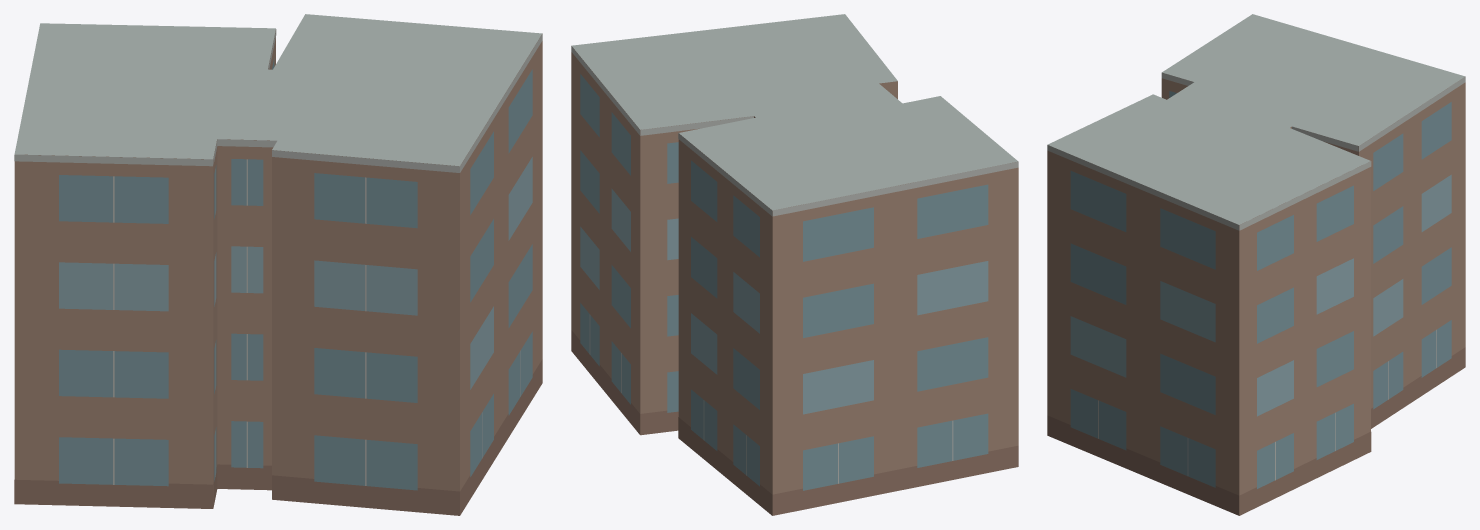
File: survey-upis-32656781.glb
3 views of the same model, side by side, from view 1: azimuth 30°, elevation 25°; view 2: azimuth 150°, elevation 25°; view 3: azimuth 270°, elevation 25° (orthographic). The views are drawn at different scales.
Parts seen in each view (by area): view 1: survey-upis-32656781.tmp; view 2: survey-upis-32656781.tmp; view 3: survey-upis-32656781.tmp.
Part boxes in pixels (x1=…): survey-upis-32656781.tmp: x1=14, y1=14, x2=542, y2=515; survey-upis-32656781.tmp: x1=571, y1=14, x2=1018, y2=515; survey-upis-32656781.tmp: x1=1047, y1=14, x2=1465, y2=515.
Bounding box in the file's own units: 19.23 × 12.35 × 16.1.
